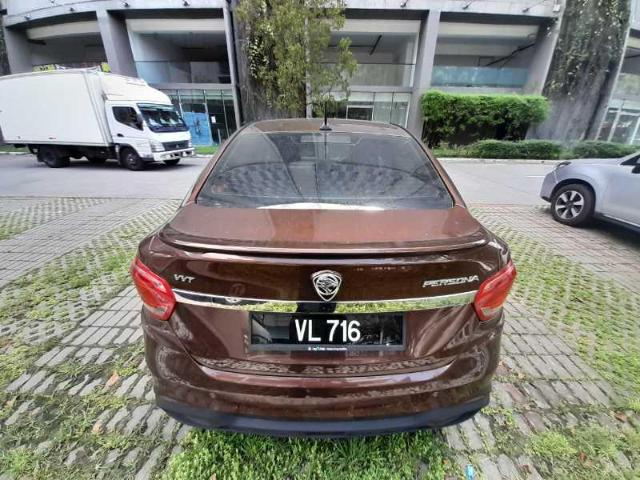License_Plate: (246, 311, 408, 353)
car: (130, 117, 517, 440)
